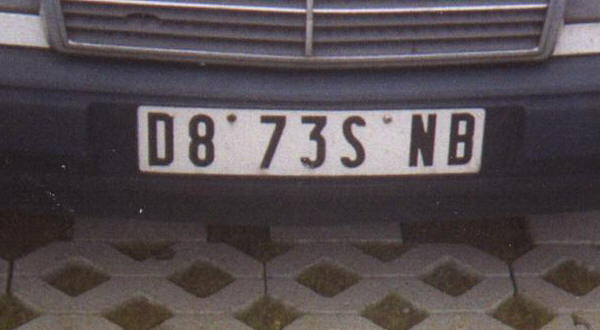license_plate: (137, 103, 484, 177)
